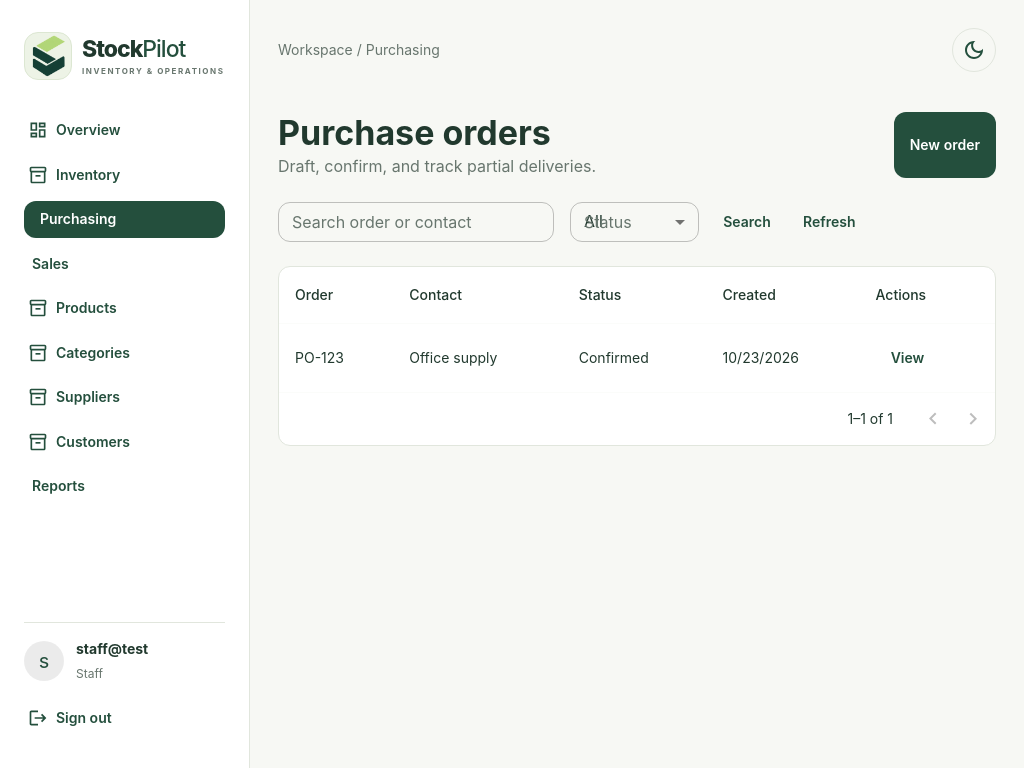
Test case: receives part of an order using the current version and delivery reference
Click the button "View" at (908, 358), box [876,340,940,376]
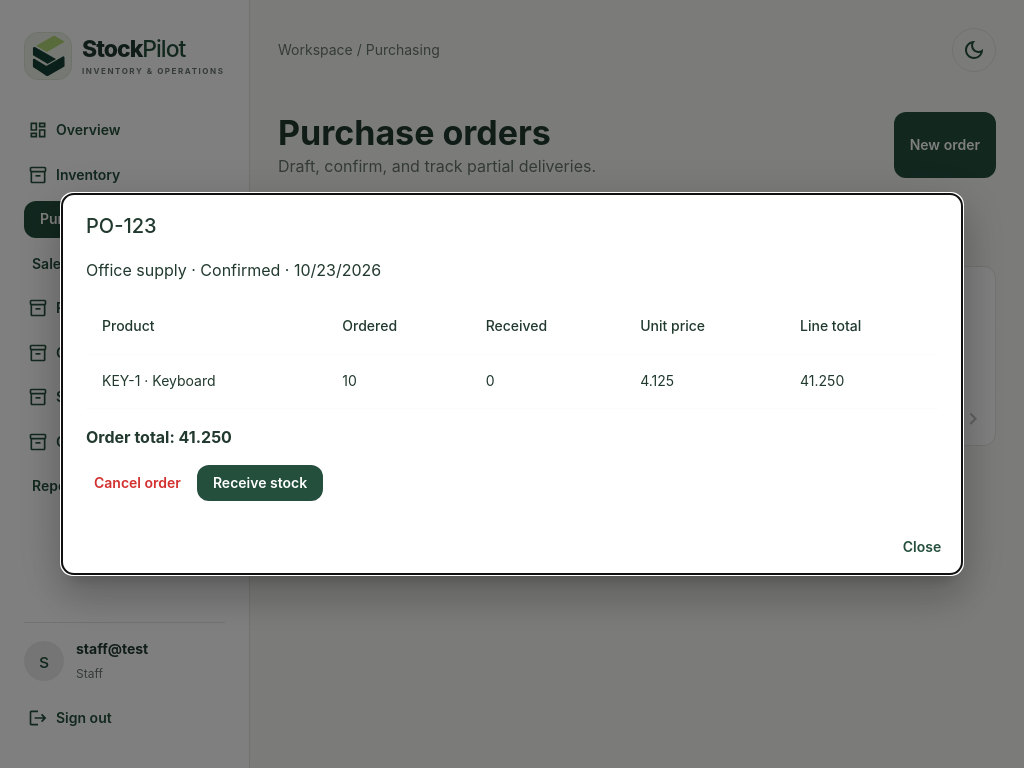
Click the button "Receive stock" at (260, 483), box [197,464,323,501]
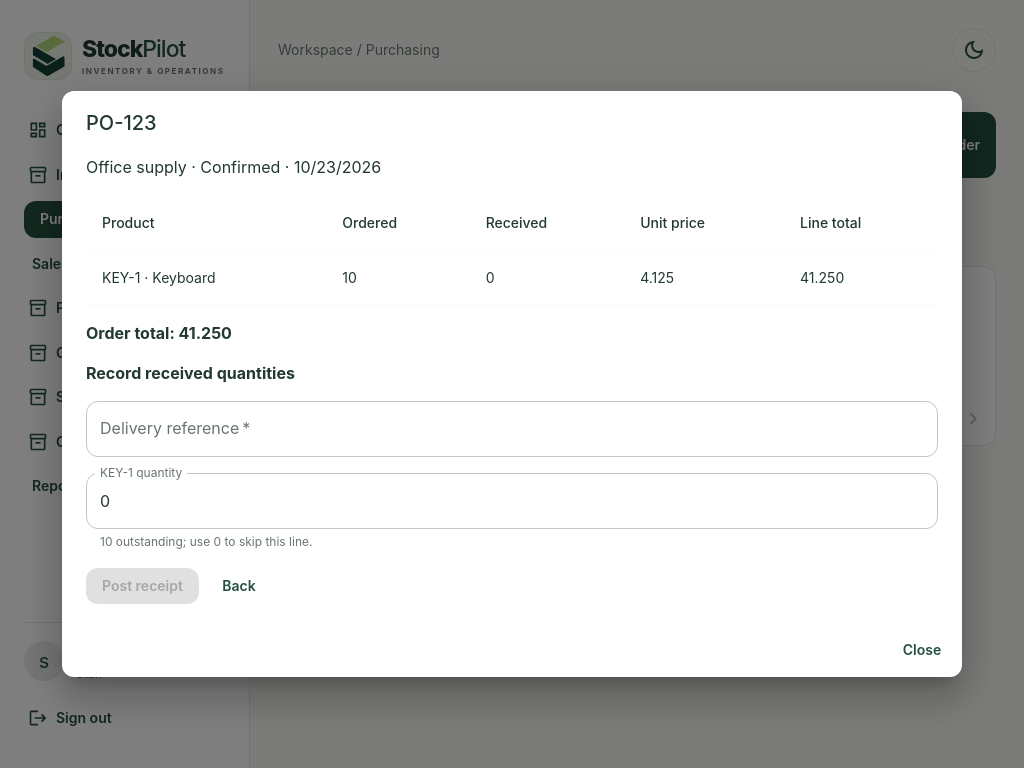
Type "DEL-42" into the field labelled "Delivery reference *" at (512, 429), box [86,401,938,457]
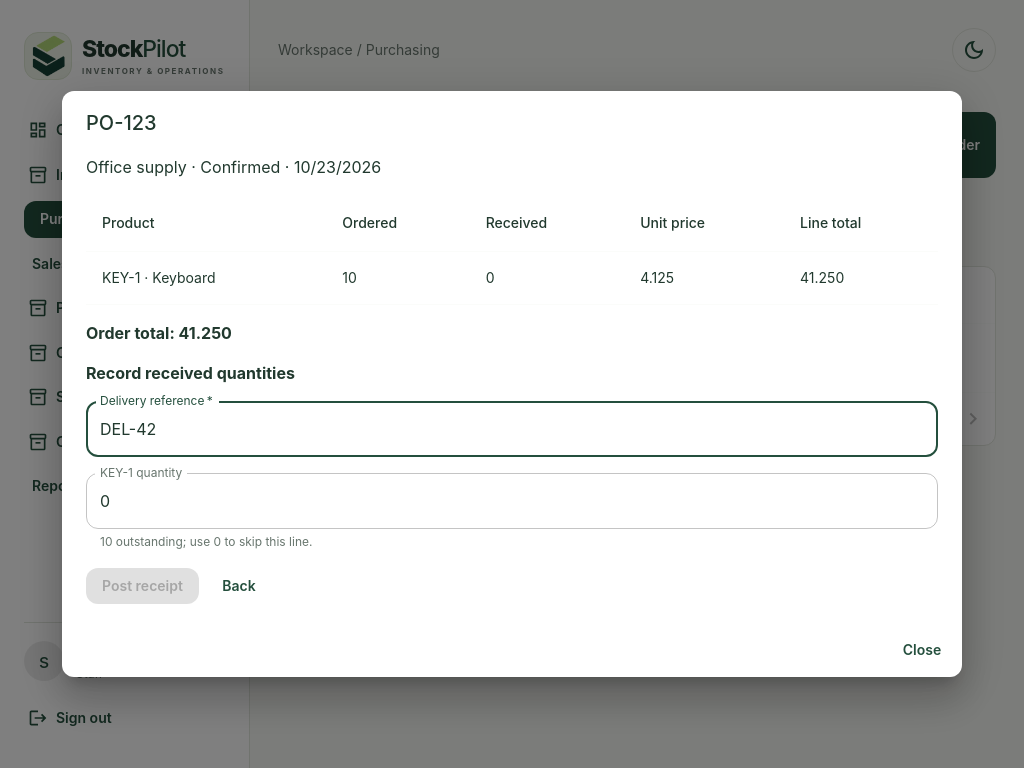
Replace the text in the number field labelled "KEY-1 quantity" with "4" at (512, 501), box [86,473,938,529]
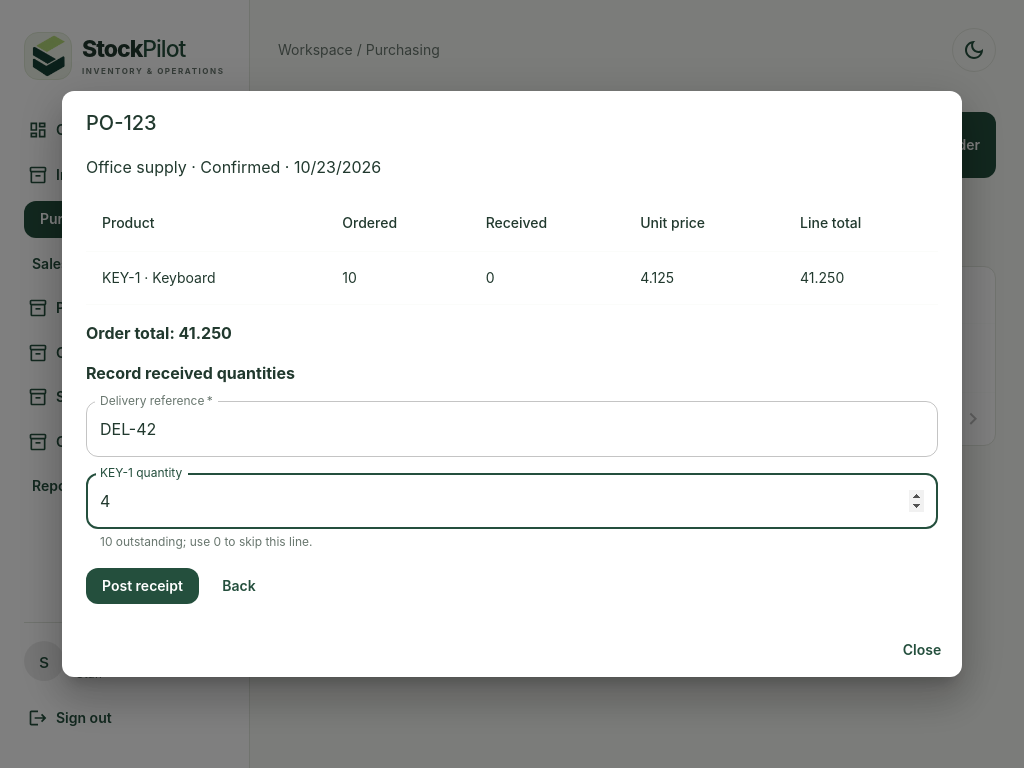
Click the button "Post receipt" at (142, 586), box [86,568,199,604]
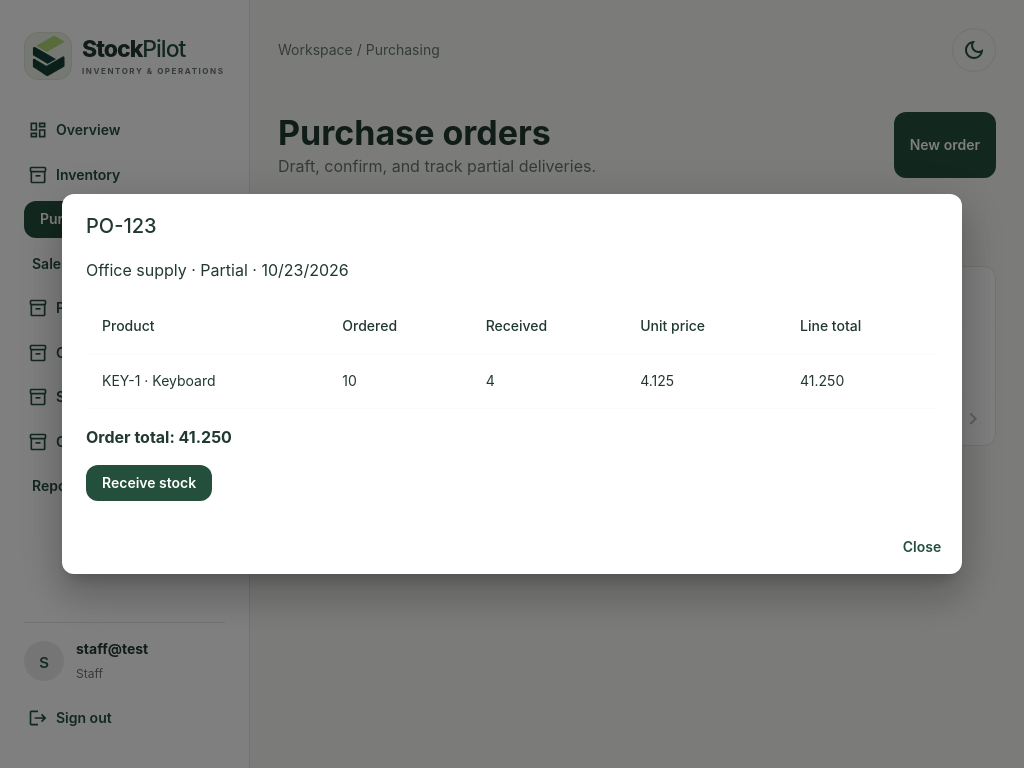
Now the text "Office supply · Partial · 10/23/2026" is shown, box [86,260,349,280]
